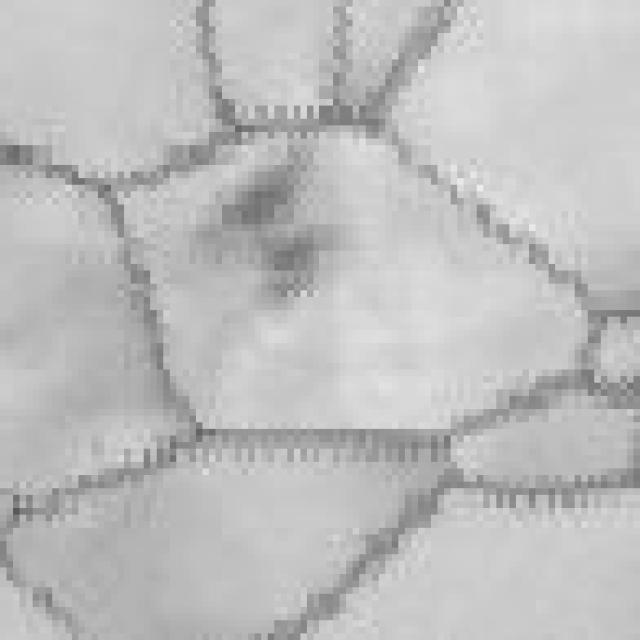good_void: (207, 149, 330, 308)
